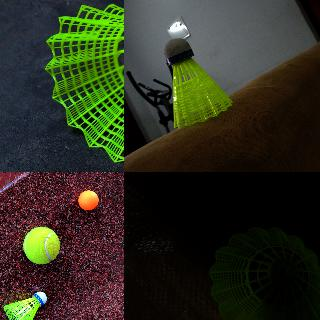shuttlecock: (45, 3, 123, 170), (209, 227, 319, 319), (164, 38, 232, 128), (3, 292, 46, 319)
